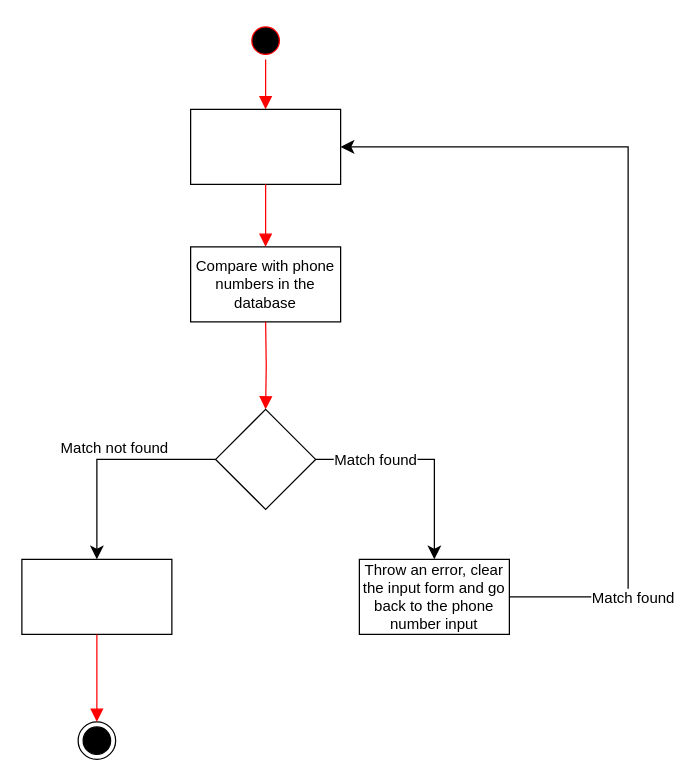
Some shapes in this 695 by 781 pixel diagram are drawn without their labels. The shapes that lost their labels are listed below. From the top down, each one's centre as x and y in pixels, then its label:
(x=265, y=146): Capture user's new phone number from keyboard input
(x=96, y=596): User saves the information via the button "save changes"
